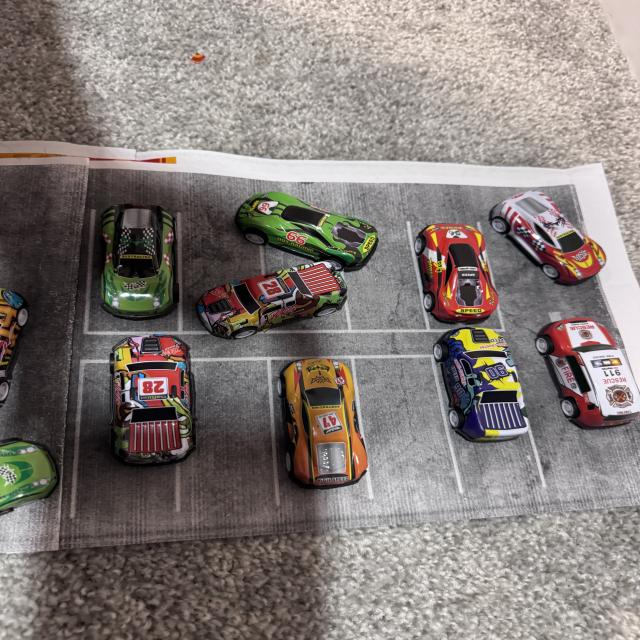Car: (92, 317, 240, 517), (412, 326, 581, 498), (256, 340, 396, 534), (396, 209, 546, 347), (524, 294, 640, 444), (230, 169, 403, 261), (175, 251, 348, 339), (472, 178, 600, 275), (85, 202, 179, 325), (0, 432, 100, 524), (0, 290, 37, 432)
